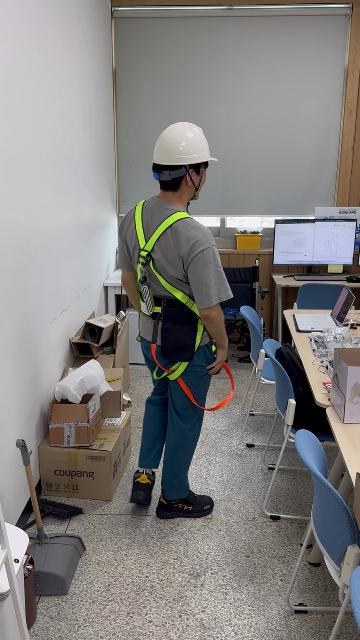helmet_worn: (150, 120, 219, 166)
shoe_worn: (157, 489, 213, 519), (129, 468, 156, 507)
vest_worn: (130, 206, 235, 400)
